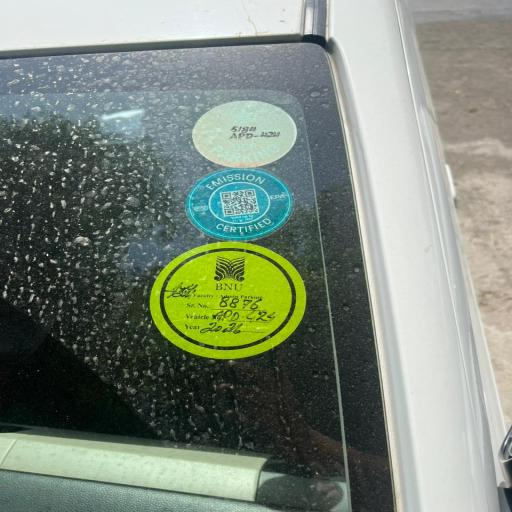bnu_sticker: (140, 240, 318, 358)
